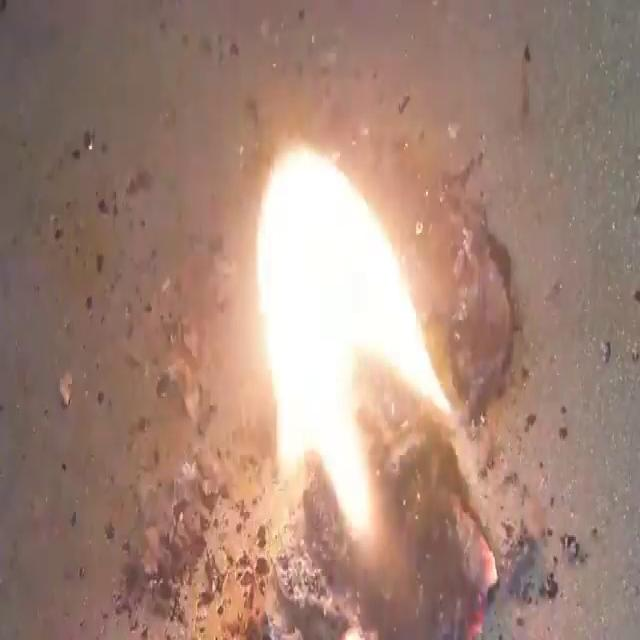Fire: (250, 137, 457, 547)
